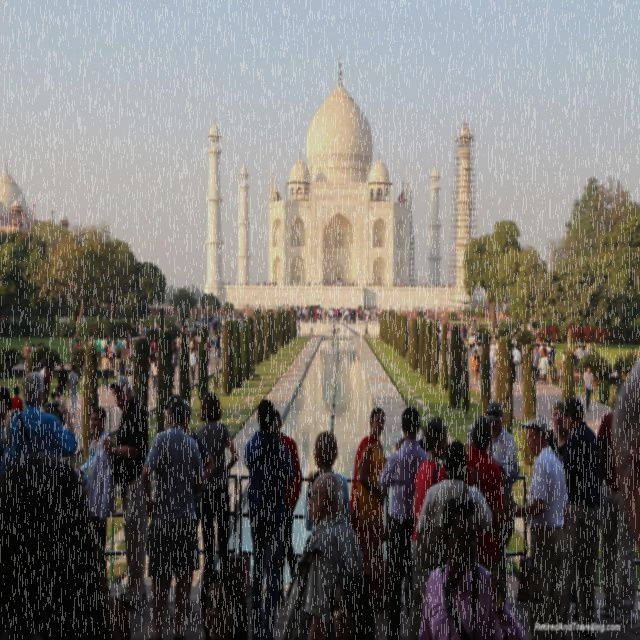pessoa: (0, 436, 140, 640), (415, 490, 530, 640), (140, 392, 208, 640), (281, 470, 366, 640), (510, 413, 572, 639), (243, 398, 296, 639), (160, 398, 217, 622), (377, 404, 431, 640), (592, 375, 640, 630), (556, 396, 606, 640), (414, 438, 498, 578), (101, 373, 150, 611), (346, 403, 390, 640), (406, 416, 448, 640), (194, 391, 240, 586), (484, 399, 522, 603), (608, 346, 640, 560), (465, 414, 507, 572), (7, 369, 78, 462), (73, 404, 113, 552), (274, 409, 302, 604), (303, 428, 353, 533), (197, 566, 251, 640), (324, 568, 376, 640), (404, 304, 468, 354), (488, 316, 534, 384), (74, 334, 128, 370), (222, 280, 452, 288), (0, 408, 22, 483), (176, 310, 256, 330), (308, 304, 384, 324), (546, 399, 568, 456), (171, 330, 201, 366), (467, 316, 482, 382), (274, 303, 310, 323), (582, 364, 596, 414), (67, 363, 79, 419), (54, 386, 68, 428), (206, 330, 224, 362), (537, 349, 551, 386), (56, 361, 70, 397), (574, 341, 592, 366), (42, 367, 52, 410), (100, 350, 110, 392), (124, 324, 136, 357), (508, 354, 516, 401), (42, 364, 50, 410), (464, 424, 476, 451), (532, 345, 540, 385), (12, 386, 24, 412), (150, 357, 158, 396), (478, 302, 509, 312), (190, 346, 197, 386), (147, 346, 155, 381), (549, 340, 557, 370), (570, 347, 578, 373), (114, 352, 122, 378), (22, 340, 30, 364), (537, 342, 549, 357), (150, 337, 158, 359), (128, 342, 136, 364), (567, 347, 573, 373), (546, 341, 552, 366), (172, 366, 178, 390), (242, 302, 262, 309), (364, 321, 371, 338), (81, 363, 85, 392), (330, 320, 336, 338), (308, 320, 314, 338), (296, 320, 302, 338), (69, 336, 75, 354), (438, 328, 442, 354), (50, 392, 58, 405), (60, 314, 70, 324), (562, 347, 567, 365), (102, 314, 108, 326), (142, 324, 148, 336), (81, 314, 88, 324), (110, 316, 118, 324), (534, 324, 538, 340), (30, 343, 36, 353), (398, 304, 403, 316), (252, 329, 255, 348), (154, 320, 158, 334), (35, 365, 41, 373), (390, 307, 396, 313), (95, 314, 98, 322), (262, 316, 266, 322), (238, 329, 242, 334)
